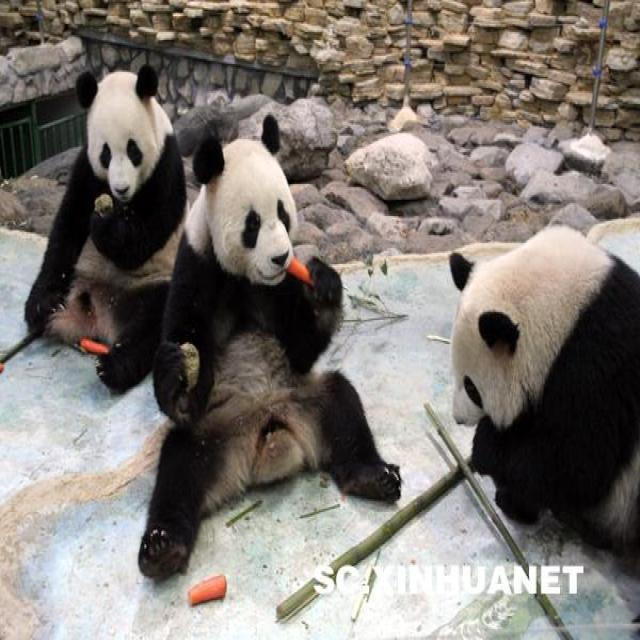panda: (31, 57, 377, 502), (433, 208, 640, 509)
